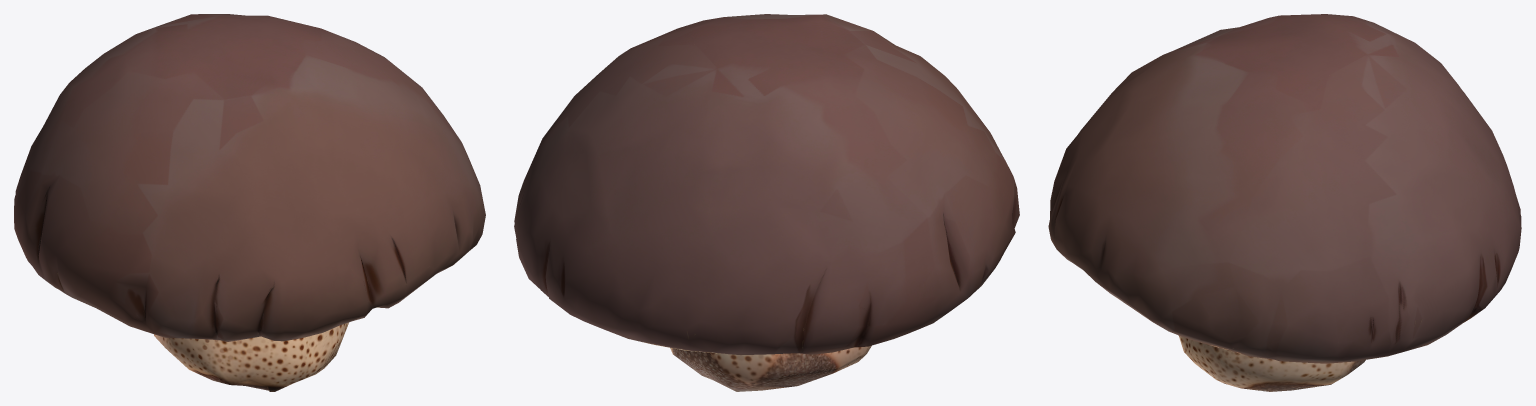
The picture shows the model from 3 angles, left to right: view 1: azimuth 30°, elevation 25°; view 2: azimuth 150°, elevation 25°; view 3: azimuth 270°, elevation 25°; orthographic projection. The views are drawn at different scales.
Visible parts, largest first — view 1: Mesh_0; view 2: Mesh_0; view 3: Mesh_0.
Part boxes in pixels (left/top/right/bottom): Mesh_0: left=14, top=14, right=485, bottom=391; Mesh_0: left=514, top=14, right=1019, bottom=391; Mesh_0: left=1048, top=14, right=1521, bottom=391.
Bounding box in the file's own units: 10.86 × 8 × 10.64.
1 material, 1 textured.
